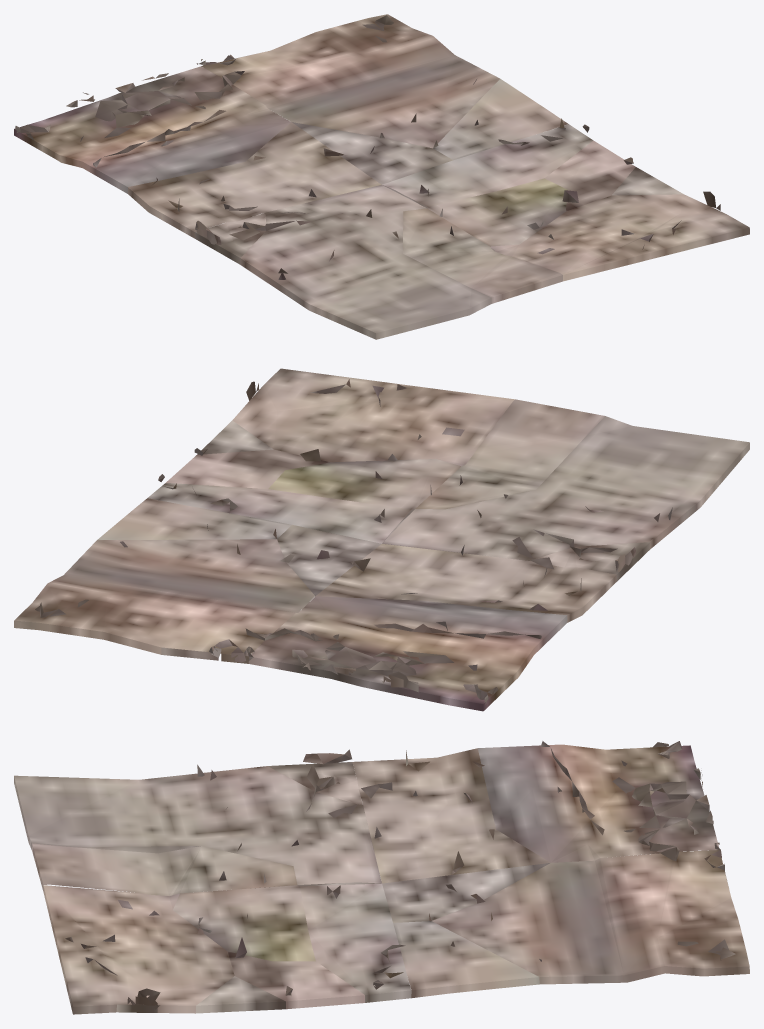
3 renders of one model, top to bottom at view 1: azimuth 30°, elevation 25°; view 2: azimuth 150°, elevation 25°; view 3: azimuth 270°, elevation 25°, orthographic. The views are drawn at different scales.
Visible parts, largest first — view 1: Mesh_0; view 2: Mesh_0; view 3: Mesh_0.
Part boxes in pixels (box(x1,y1,x2,y2)): Mesh_0: box(14, 14, 749, 339); Mesh_0: box(14, 368, 749, 711); Mesh_0: box(14, 741, 749, 1014).
Size of the model in its own units: 533 by 39.84 by 659.
1 material, 1 textured.
